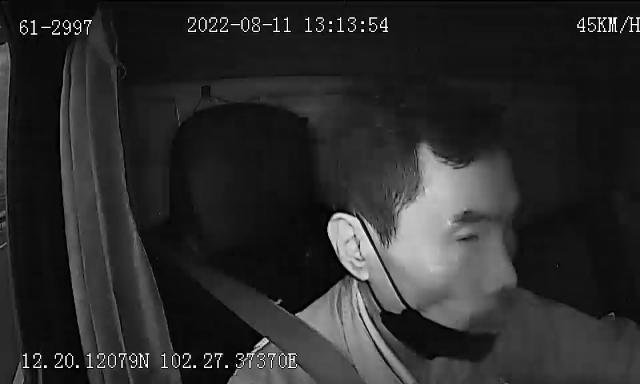Seatbelt: (188, 260, 362, 384)
